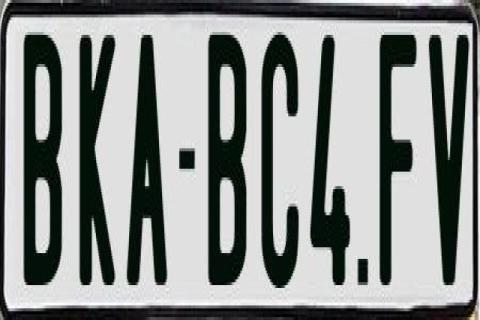0: (310, 26, 357, 291)
A: (126, 29, 167, 285)
B: (23, 32, 66, 294), (205, 32, 248, 282)
C: (260, 29, 300, 303)
F: (380, 32, 420, 294)
K: (80, 35, 118, 291)
V: (426, 26, 464, 282)
